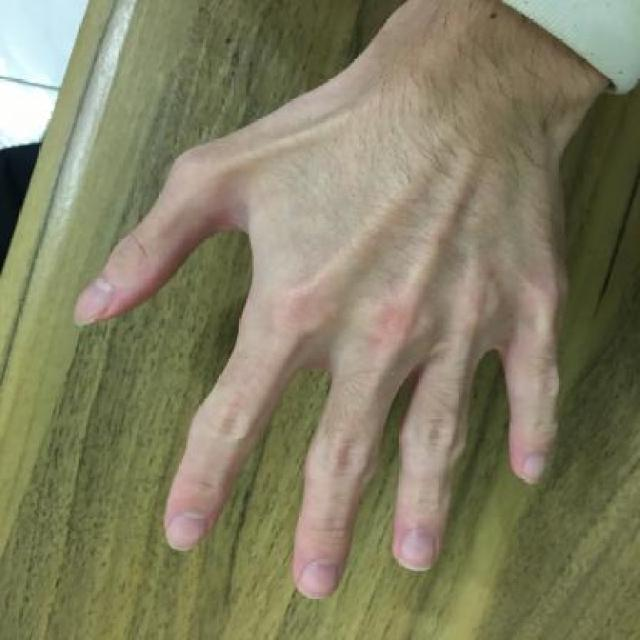bare_hand: (48, 36, 594, 619)
